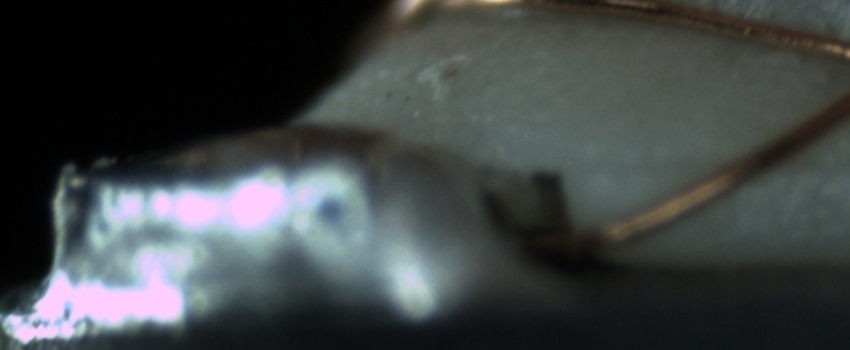DL: (610, 131, 848, 201)
